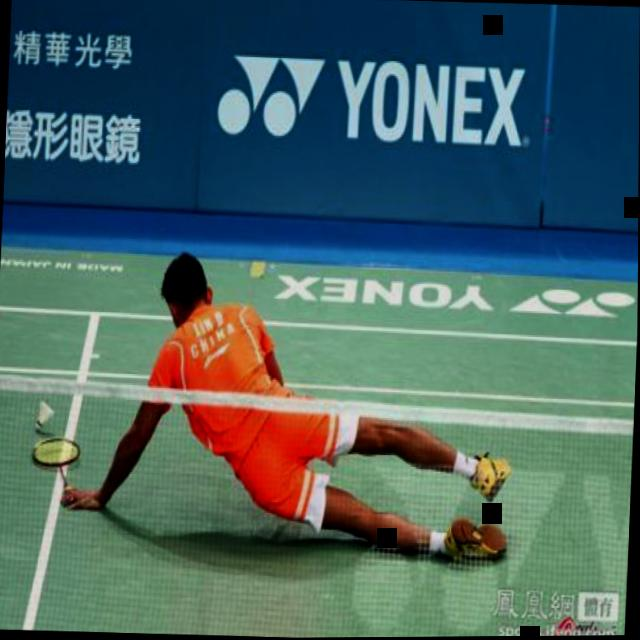Fall-Detected: (54, 233, 514, 583)
